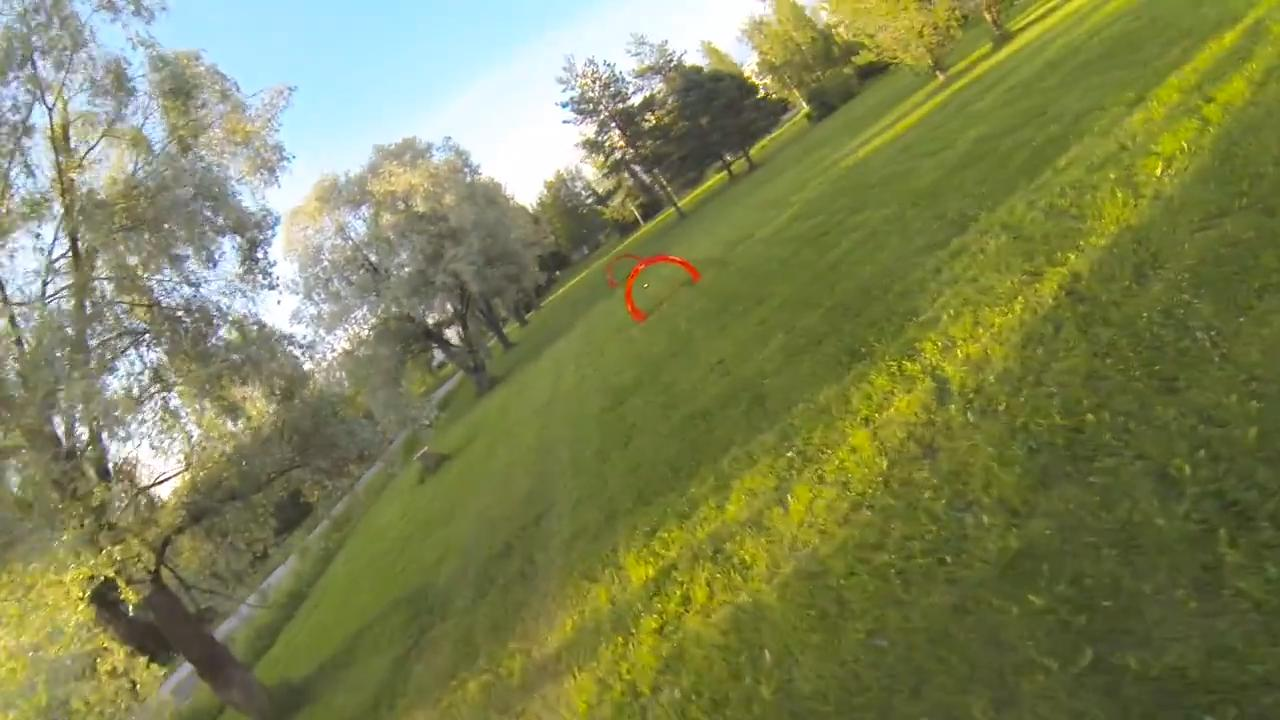gate: (620, 253, 705, 324)
